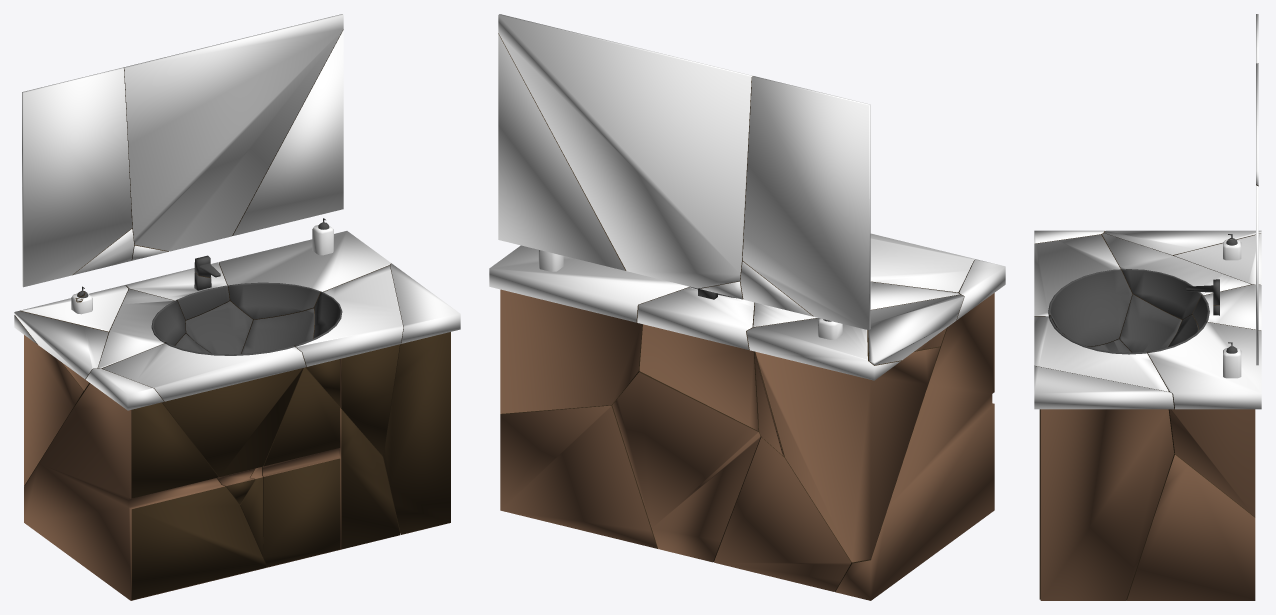
Rendered from Pila_Roto.fbx.
3 views of the same model, side by side, from view 1: azimuth 30°, elevation 25°; view 2: azimuth 150°, elevation 25°; view 3: azimuth 270°, elevation 25° (orthographic). The views are drawn at different scales.
Parts seen in each view (by area): view 1: Pila_cell.014, Pila_cell.007, Pila_cell.001, Pila_cell.002, Pila_cell.005, Pila_cell.012, Pila_cell.003, Pila_cell.011, Pila_cell, Pila_cell.004, Pila_cell.008, Pila_cell.013 (+2 smaller); view 2: Pila_cell.007, Pila_cell.002, Pila_cell.001, Pila_cell, Pila_cell.014, Pila_cell.013, Pila_cell.006, Pila_cell.008, Pila_cell.009, Pila_cell.012, Pila_cell.004; view 3: Pila_cell.003, Pila_cell.002, Pila_cell.006, Pila_cell.012, Pila_cell.004, Pila_cell.011, Pila_cell.001, Pila_cell, Pila_cell.009, Pila_cell.008, Pila_cell.007, Pila_cell.014 (+1 smaller).
Part boxes in pixels (x1,y1,x2,y2): Pila_cell.014: [24, 368, 266, 600]; Pila_cell.007: [123, 14, 343, 277]; Pila_cell.001: [14, 67, 132, 390]; Pila_cell.002: [219, 29, 391, 321]; Pila_cell.005: [262, 367, 400, 567]; Pila_cell.012: [102, 342, 305, 504]; Pila_cell.003: [382, 263, 460, 534]; Pila_cell.011: [294, 265, 403, 456]; Pila_cell: [14, 228, 133, 486]; Pila_cell.004: [97, 289, 185, 368]; Pila_cell.008: [125, 244, 229, 320]; Pila_cell.013: [185, 301, 252, 354]; Pila_cell.007: [498, 14, 753, 288]; Pila_cell.002: [489, 33, 689, 413]; Pila_cell.001: [742, 76, 964, 365]; Pila_cell: [740, 261, 939, 562]; Pila_cell.014: [835, 259, 1005, 600]; Pila_cell.013: [612, 370, 760, 562]; Pila_cell.006: [500, 283, 727, 548]; Pila_cell.008: [637, 281, 758, 430]; Pila_cell.009: [713, 436, 851, 591]; Pila_cell.012: [870, 233, 974, 292]; Pila_cell.004: [753, 282, 959, 456]; Pila_cell.003: [1034, 366, 1174, 600]; Pila_cell.002: [1147, 185, 1261, 516]; Pila_cell.006: [1126, 452, 1255, 600]; Pila_cell.012: [1034, 234, 1132, 346]; Pila_cell.004: [1102, 233, 1251, 319]; Pila_cell.011: [1034, 315, 1168, 391]; Pila_cell.001: [1104, 14, 1261, 255]; Pila_cell: [1173, 233, 1261, 284]; Pila_cell.009: [1119, 294, 1182, 352]; Pila_cell.008: [1192, 284, 1261, 330]; Pila_cell.007: [1186, 63, 1258, 305]; Pila_cell.014: [1034, 230, 1104, 243].
Size of the model in its own units: 132 by 163 by 78.02.
